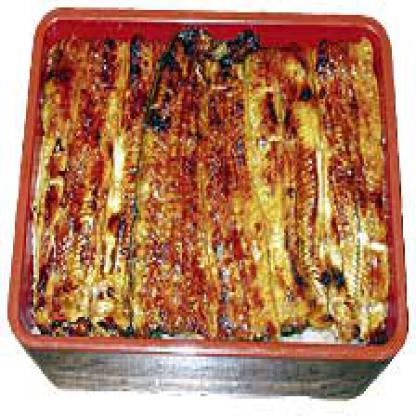eel: (37, 25, 386, 344)
